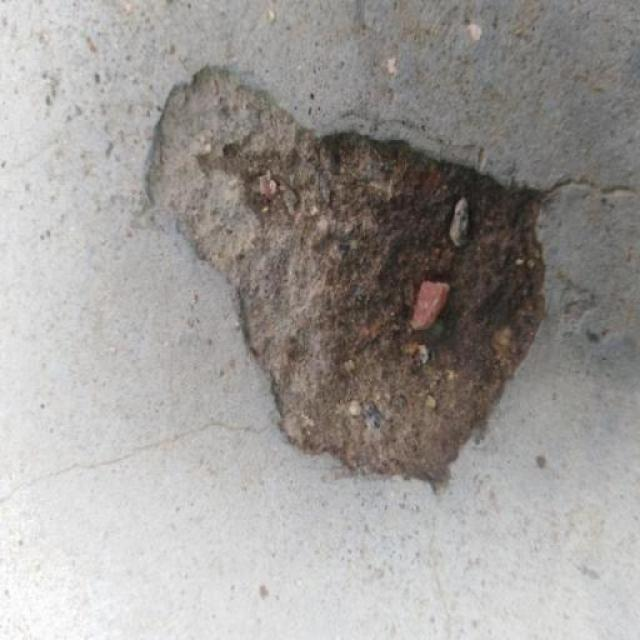D10: (142, 66, 546, 491)
